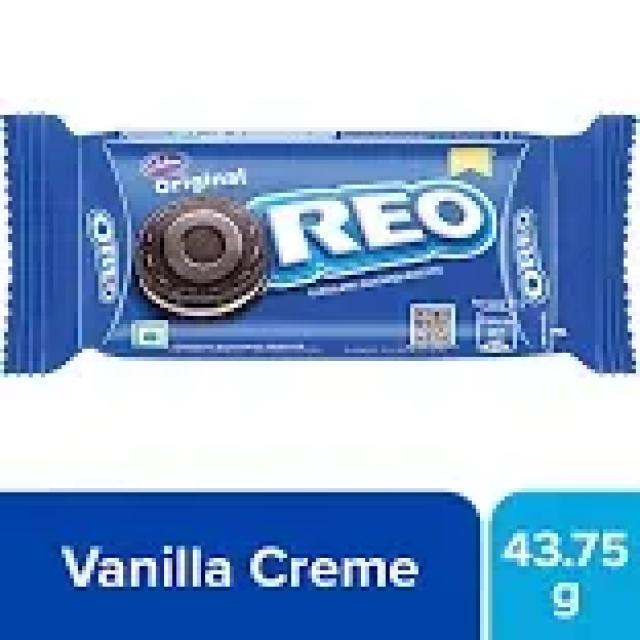oreo: (3, 112, 631, 370)
